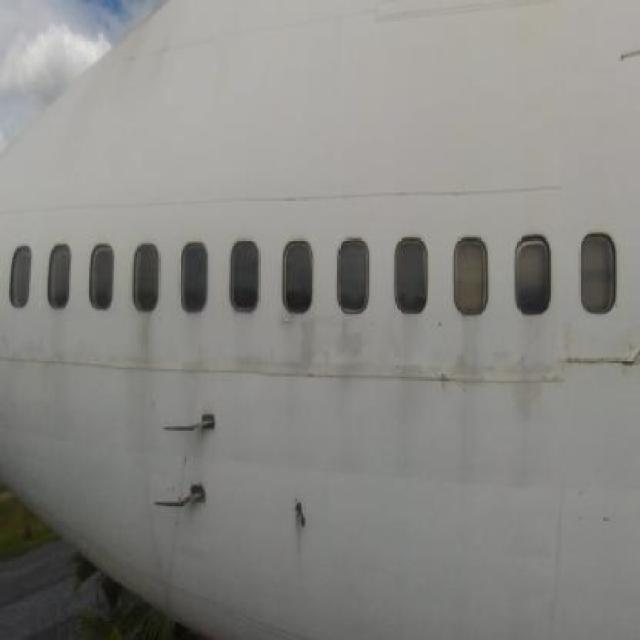Scartch: (558, 338, 640, 391), (611, 23, 640, 66)
